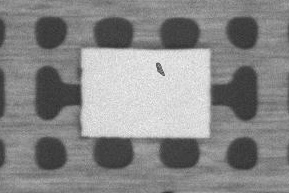DIE_INK: (153, 61, 166, 76)
